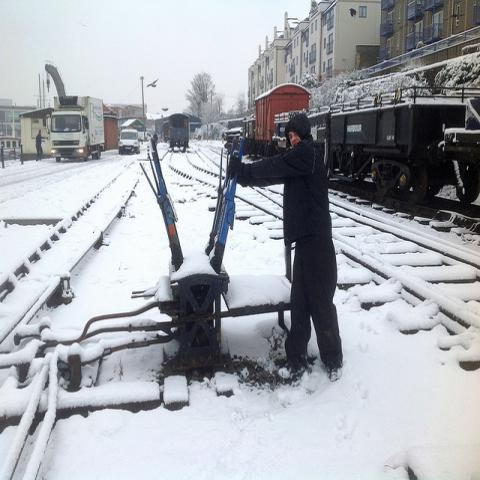truck: (47, 97, 105, 163), (118, 129, 140, 155)
